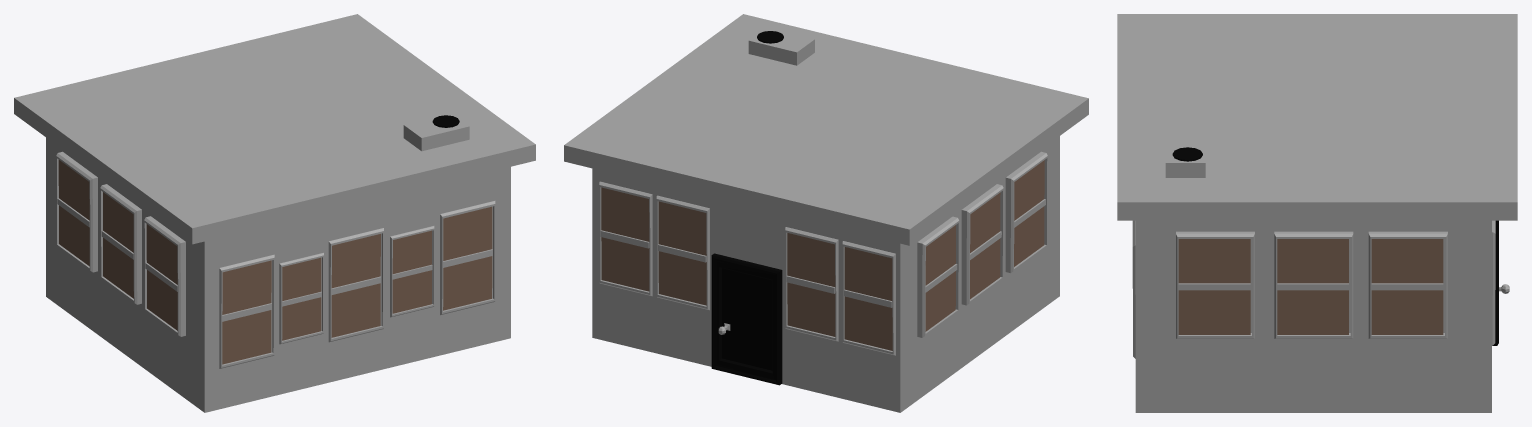
File: IndustryWorkBuilding3.fbx
3 views of the same model, side by side, from view 1: azimuth 30°, elevation 25°; view 2: azimuth 150°, elevation 25°; view 3: azimuth 270°, elevation 25° (orthographic). The views are drawn at different scales.
Visible parts, largest first — view 1: pCube236, pCube267, polySurface423, polySurface431, polySurface422, polySurface424, polySurface414, polySurface433, polySurface436, polySurface437, pCube238; view 2: pCube236, pCube267, pSphere14, polySurface430, polySurface435, polySurface418, polySurface434, polySurface414, polySurface433, polySurface424, pCube238; view 3: pCube236, pCube267, polySurface425, polySurface432, polySurface404, pCube238, pSphere14, polySurface434, polySurface422.
Part boxes in pixels (<box>): pCube236: <box>14,14,535,244</box>; pCube267: <box>46,137,510,412</box>; polySurface423: <box>219,254,274,368</box>; polySurface431: <box>328,228,383,342</box>; polySurface422: <box>440,201,495,315</box>; polySurface424: <box>56,151,97,272</box>; polySurface414: <box>144,216,185,336</box>; polySurface433: <box>100,184,141,304</box>; polySurface436: <box>279,252,323,344</box>; polySurface437: <box>390,226,434,317</box>; pCube238: <box>403,113,469,151</box>; pCube236: <box>564,14,1088,245</box>; pCube267: <box>592,136,1059,412</box>; pSphere14: <box>711,253,782,385</box>; polySurface430: <box>656,195,709,310</box>; polySurface435: <box>785,227,838,341</box>; polySurface418: <box>842,241,895,355</box>; polySurface434: <box>599,181,652,296</box>; polySurface414: <box>1005,151,1047,273</box>; polySurface433: <box>961,184,1003,305</box>; polySurface424: <box>917,216,959,337</box>; pCube238: <box>748,27,814,65</box>; pCube236: <box>1117,14,1517,220</box>; pCube267: <box>1135,220,1491,412</box>; polySurface425: <box>1368,231,1447,338</box>; polySurface432: <box>1274,231,1353,338</box>; polySurface404: <box>1176,231,1254,338</box>; pCube238: <box>1165,136,1205,177</box>; pSphere14: <box>1492,220,1509,345</box>; polySurface434: <box>1492,220,1495,345</box>; polySurface422: <box>1132,220,1135,358</box>.
Bounding box in the file's own units: 52.57 × 30.77 × 47.24.
